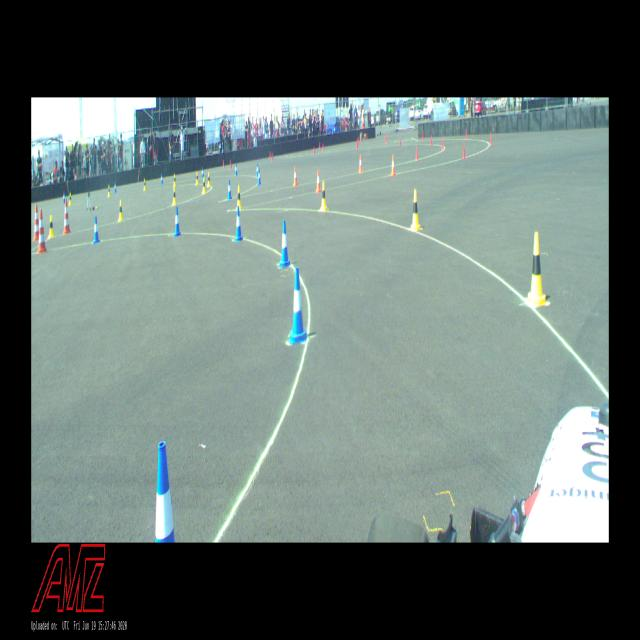blue_cone: (155, 441, 175, 542), (289, 267, 307, 342), (279, 220, 291, 268), (234, 206, 243, 242), (174, 206, 182, 236), (93, 216, 100, 244), (227, 180, 232, 200), (258, 168, 262, 185), (256, 164, 259, 178), (235, 163, 238, 176), (160, 172, 163, 185), (114, 182, 117, 194), (202, 167, 204, 179), (63, 191, 65, 203)
large_orange_cone: (36, 210, 48, 254), (62, 199, 70, 234), (32, 205, 39, 242)
orange_cone: (390, 154, 396, 176), (316, 170, 322, 192), (293, 166, 298, 186), (358, 154, 363, 172)
unknown_cone: (415, 144, 418, 160), (462, 143, 465, 159), (441, 137, 444, 150), (490, 132, 492, 146), (430, 134, 432, 146), (466, 129, 468, 140), (356, 139, 358, 150), (322, 142, 324, 152), (399, 136, 401, 146), (271, 152, 273, 162), (313, 146, 315, 155), (230, 160, 232, 168), (223, 159, 224, 168), (423, 131, 424, 140), (386, 135, 387, 144), (320, 142, 320, 149)
yellow_cone: (526, 232, 547, 307), (411, 189, 422, 231), (320, 181, 328, 211), (236, 185, 242, 209), (118, 200, 124, 222), (49, 215, 54, 238), (172, 187, 177, 206), (202, 177, 206, 194), (195, 171, 199, 185), (207, 173, 211, 187), (143, 178, 147, 191), (173, 174, 177, 186), (107, 185, 111, 197), (69, 192, 72, 205)
